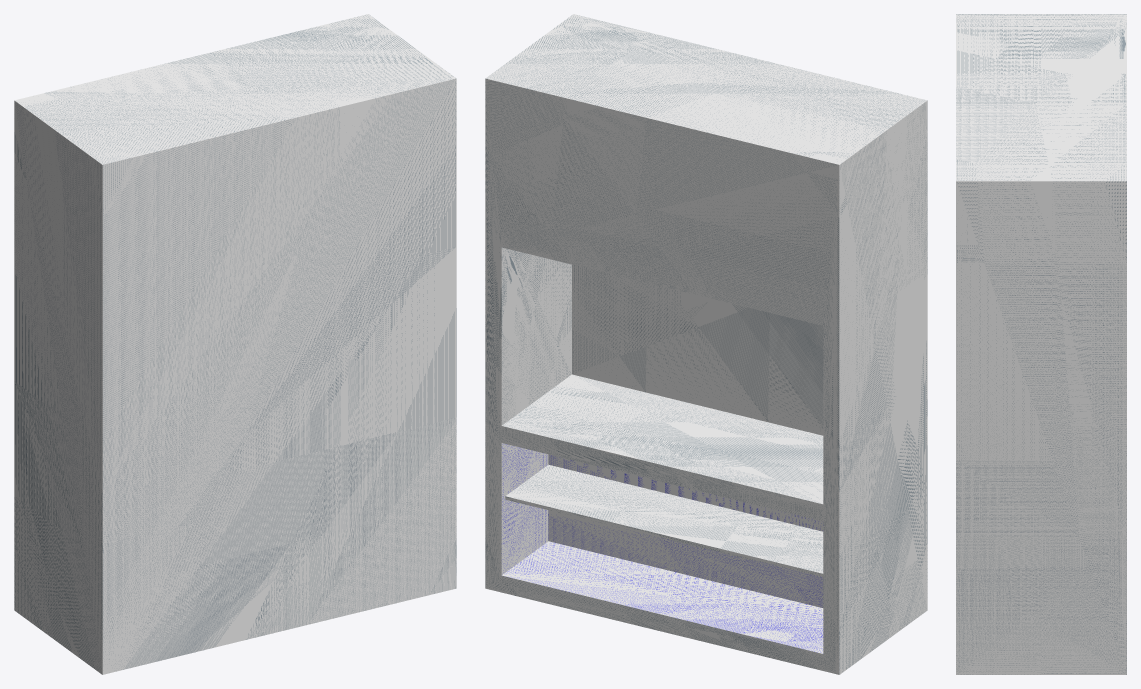
Rendered from FumeHood.obj.
3 renders of one model, left to right at view 1: azimuth 30°, elevation 25°; view 2: azimuth 150°, elevation 25°; view 3: azimuth 270°, elevation 25°, orthographic. The views are drawn at different scales.
Parts seen in each view (by area): view 1: Mesh1 Component_1_1 Model; view 2: Mesh1 Component_1_1 Model; view 3: Mesh1 Component_1_1 Model.
Boxes of the visible parts, left/top/right/bottom form: Mesh1 Component_1_1 Model: left=14, top=14, right=456, bottom=674; Mesh1 Component_1_1 Model: left=485, top=14, right=927, bottom=674; Mesh1 Component_1_1 Model: left=956, top=14, right=1126, bottom=674.
Bounding box in the file's own units: 2.18 × 3 × 0.94.
